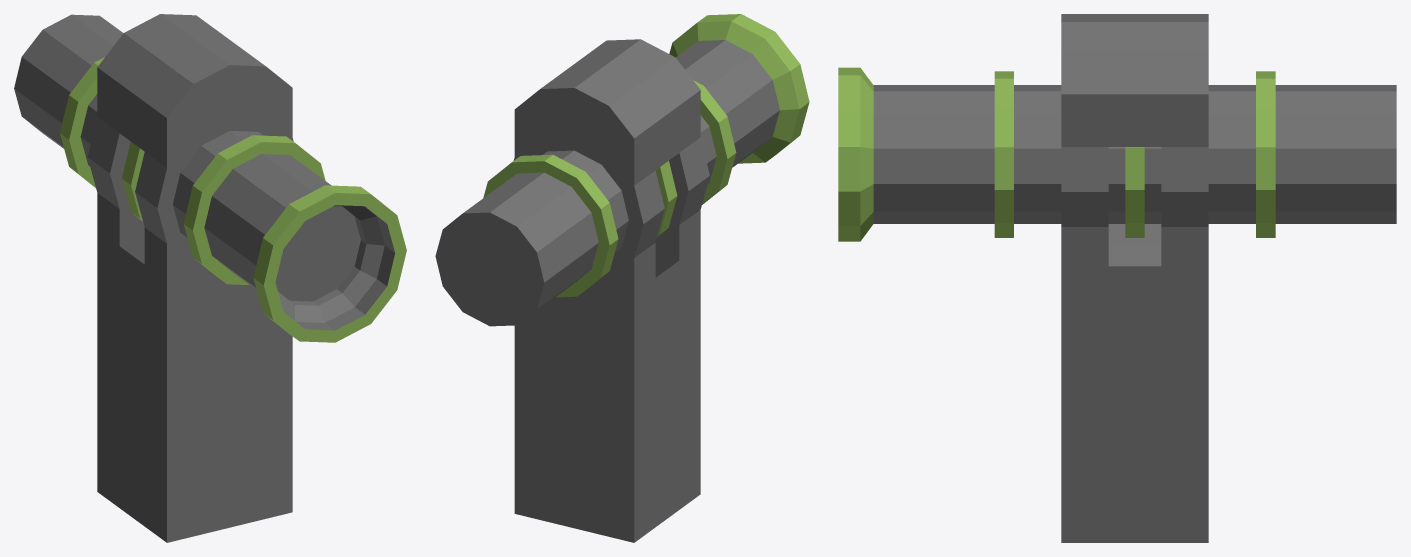
Rendered from Pipe_02.fbx.
3 views of the same model, side by side, from view 1: azimuth 30°, elevation 25°; view 2: azimuth 150°, elevation 25°; view 3: azimuth 270°, elevation 25° (orthographic). The views are drawn at different scales.
Visible parts, largest first — view 1: Pipe_02; view 2: Pipe_02; view 3: Pipe_02.
Part boxes in pixels (bbox=[...]): Pipe_02: bbox=[14, 14, 406, 542]; Pipe_02: bbox=[435, 14, 809, 542]; Pipe_02: bbox=[838, 14, 1396, 542].
Size of the model in its own units: 101 by 309 by 320.
